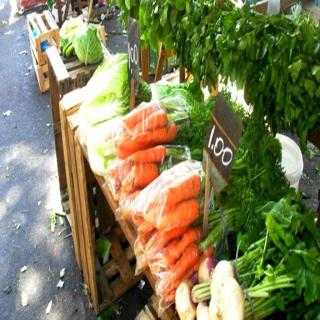Carrot: (108, 162, 216, 302), (110, 99, 173, 168)
